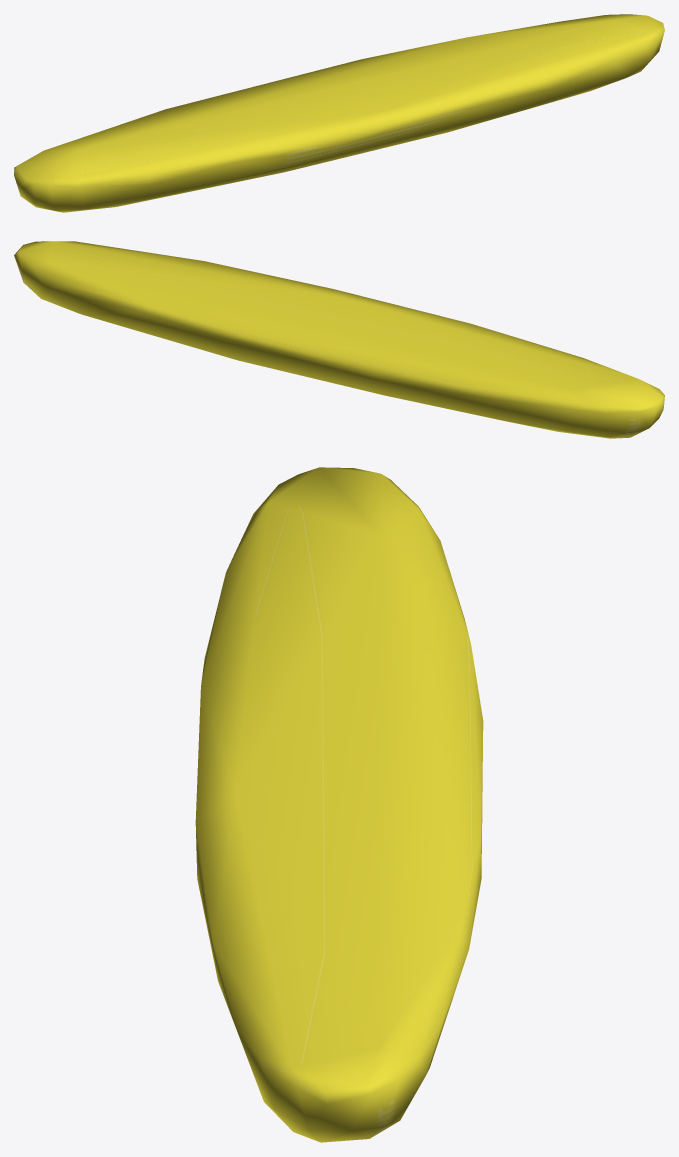
Rendered from yut (5).glb.
3 renders of one model, top to bottom at view 1: azimuth 30°, elevation 25°; view 2: azimuth 150°, elevation 25°; view 3: azimuth 270°, elevation 25°, orthographic. The views are drawn at different scales.
Visible parts, largest first — view 1: Cube.001; view 2: Cube.001; view 3: Cube.001.
Part boxes in pixels (x1,y1,x2,y2): Cube.001: [14, 14, 664, 212]; Cube.001: [14, 241, 664, 438]; Cube.001: [195, 467, 483, 1142].
Bounding box in the file's own units: 12.55 × 0.9041 × 2.44.
Materials: 1 (1 with a texture image).
